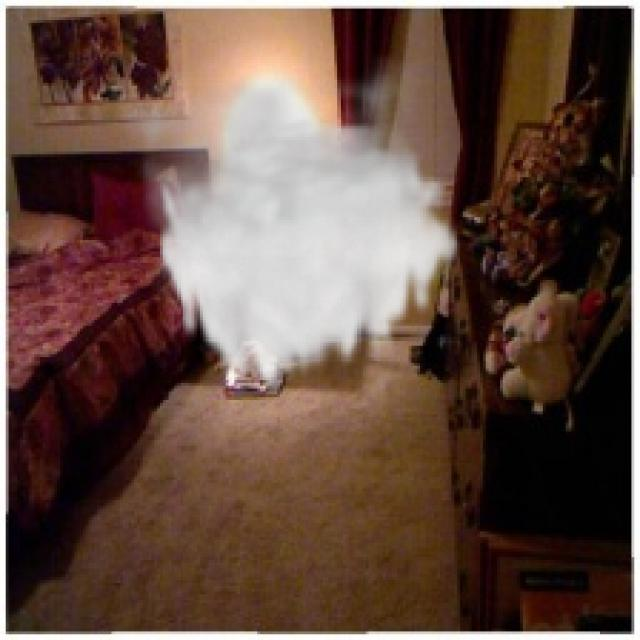smoke: (91, 48, 463, 403)
